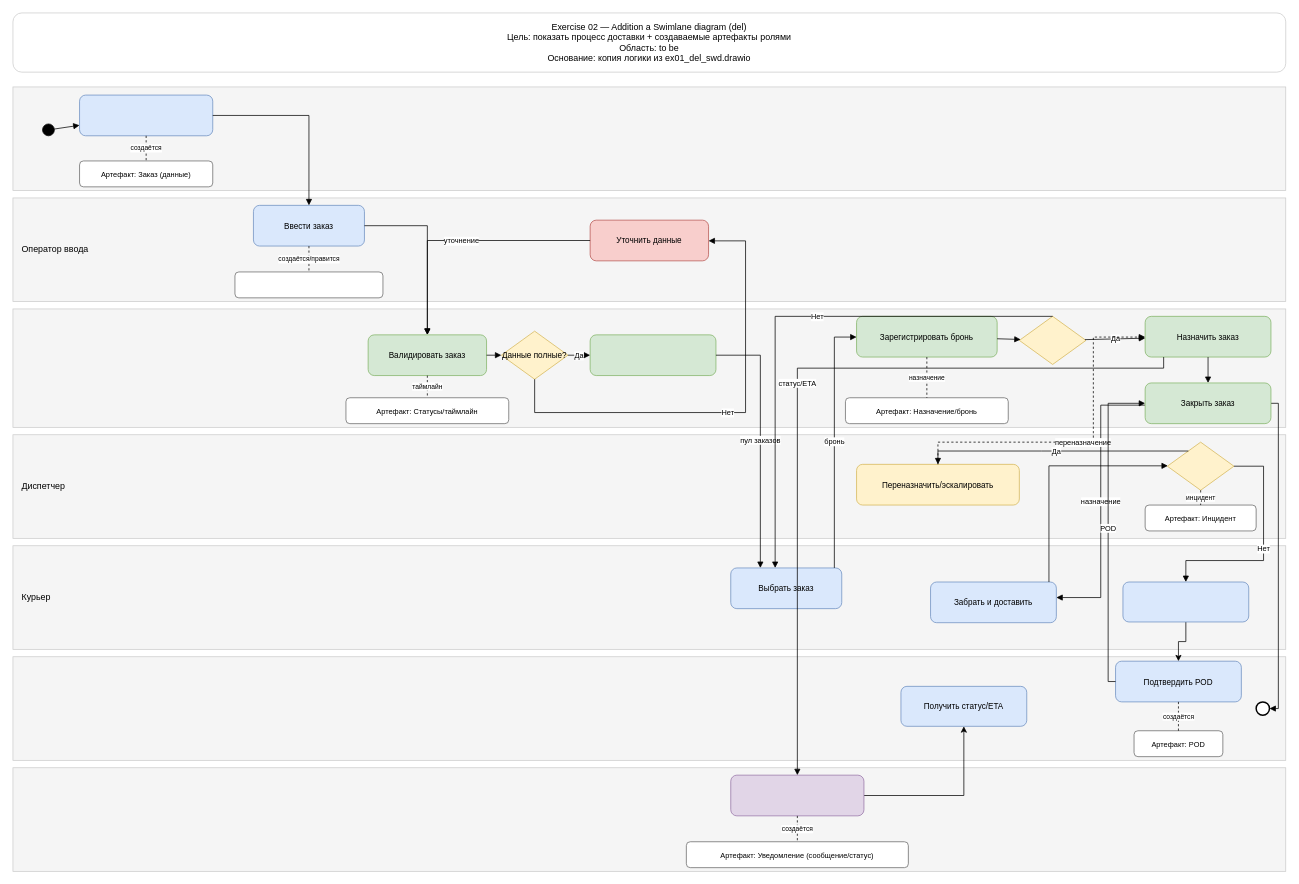
This 1299x884 diagram has some shape labels left out. Here are the shapes that lost their labels. From the top down, the box of each, then its label:
(79, 94, 213, 136): Передать данные заказа
(12, 86, 1286, 191): Поставщик
(234, 271, 383, 298): Артефакт: Карточка заказа
(589, 334, 716, 376): Опубликовать заказ
(1019, 316, 1086, 364): Бронь успешна?
(12, 308, 1286, 427): Система доставки
(1167, 441, 1234, 490): Инцидент?
(1122, 581, 1249, 622): Доставить заказ
(12, 656, 1286, 760): Клиент (получатель)
(730, 774, 864, 816): Отправить статус/ETA
(12, 767, 1286, 871): Сервис уведомлений
